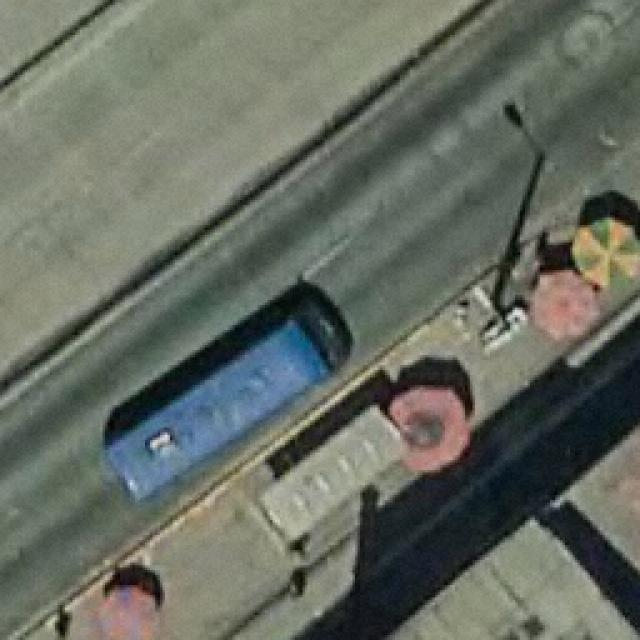vendedor_ambulante: (378, 377, 474, 470), (527, 267, 603, 344), (575, 210, 637, 292), (89, 579, 162, 640)
